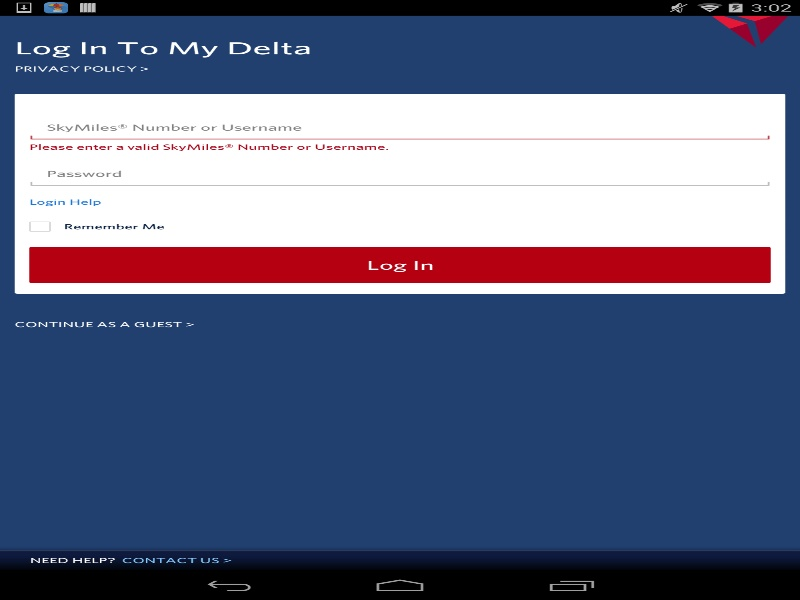Button: (29, 246, 770, 283)
Input: (29, 113, 770, 142), (29, 160, 770, 188)
